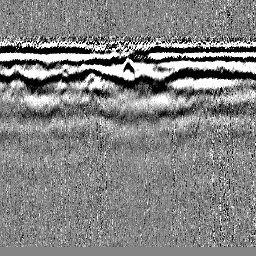cavity: (119, 57, 137, 85)
